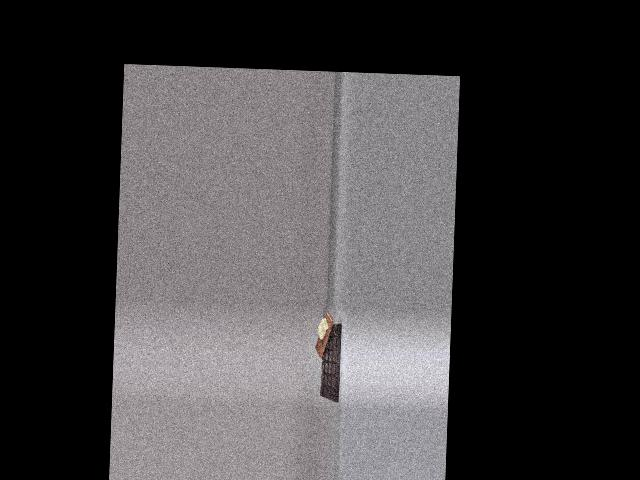chocolate: (317, 318, 344, 402)
